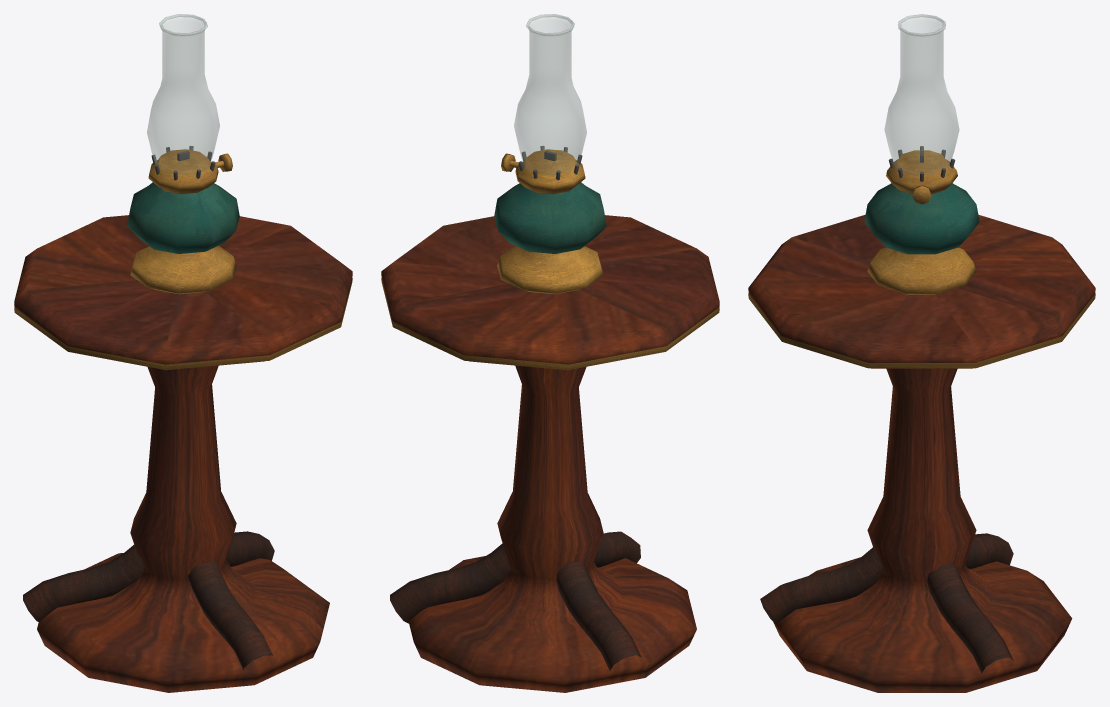
File: city1880-table-lamp-unlit.gltf
The picture shows the model from 3 angles, left to right: view 1: azimuth 30°, elevation 25°; view 2: azimuth 150°, elevation 25°; view 3: azimuth 270°, elevation 25°; orthographic projection.
Visible parts, largest first — view 1: Kerosene lamp on parlor stand · unlit; view 2: Kerosene lamp on parlor stand · unlit; view 3: Kerosene lamp on parlor stand · unlit.
Part boxes in pixels (x1=…): Kerosene lamp on parlor stand · unlit: x1=14, y1=14, x2=352, y2=692; Kerosene lamp on parlor stand · unlit: x1=381, y1=14, x2=719, y2=692; Kerosene lamp on parlor stand · unlit: x1=748, y1=14, x2=1095, y2=692.
Bounding box in the file's own units: 0.6239 × 1.27 × 0.656.
Materials: 2 (1 with a texture image).
